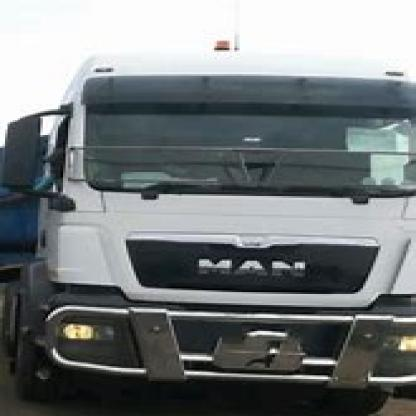dump_truck: (8, 43, 414, 396)
